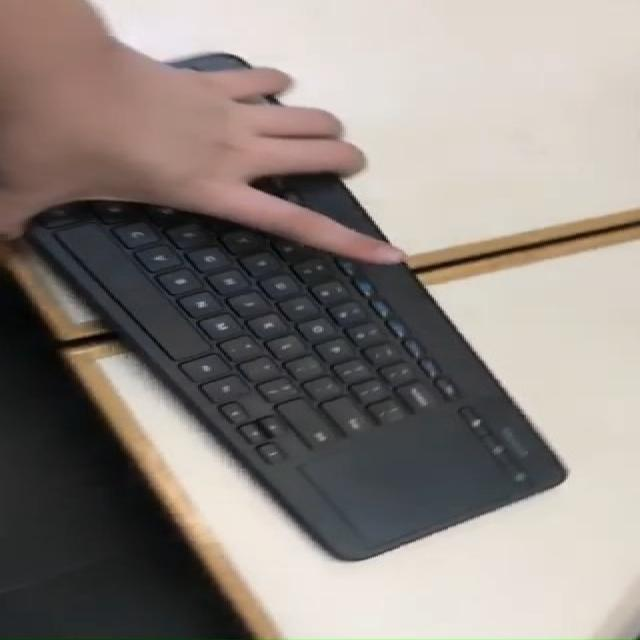keyboard-with-hands: (0, 57, 569, 557)
